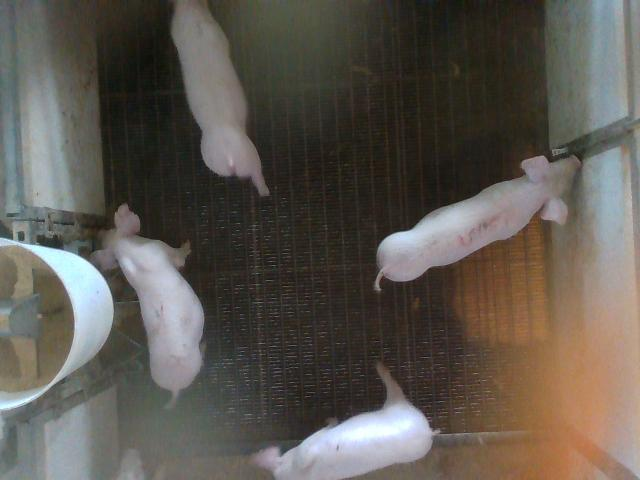pig-3: (375, 156, 581, 289)
